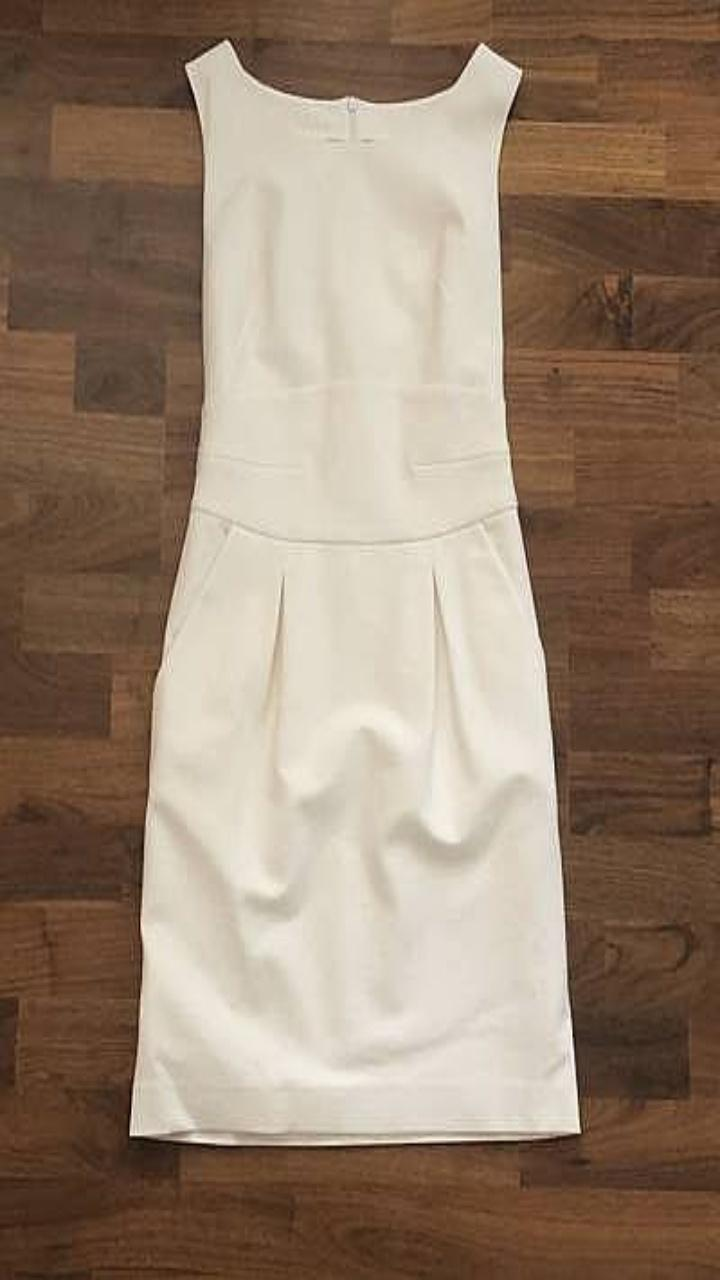Dresses: (130, 40, 579, 1144)
